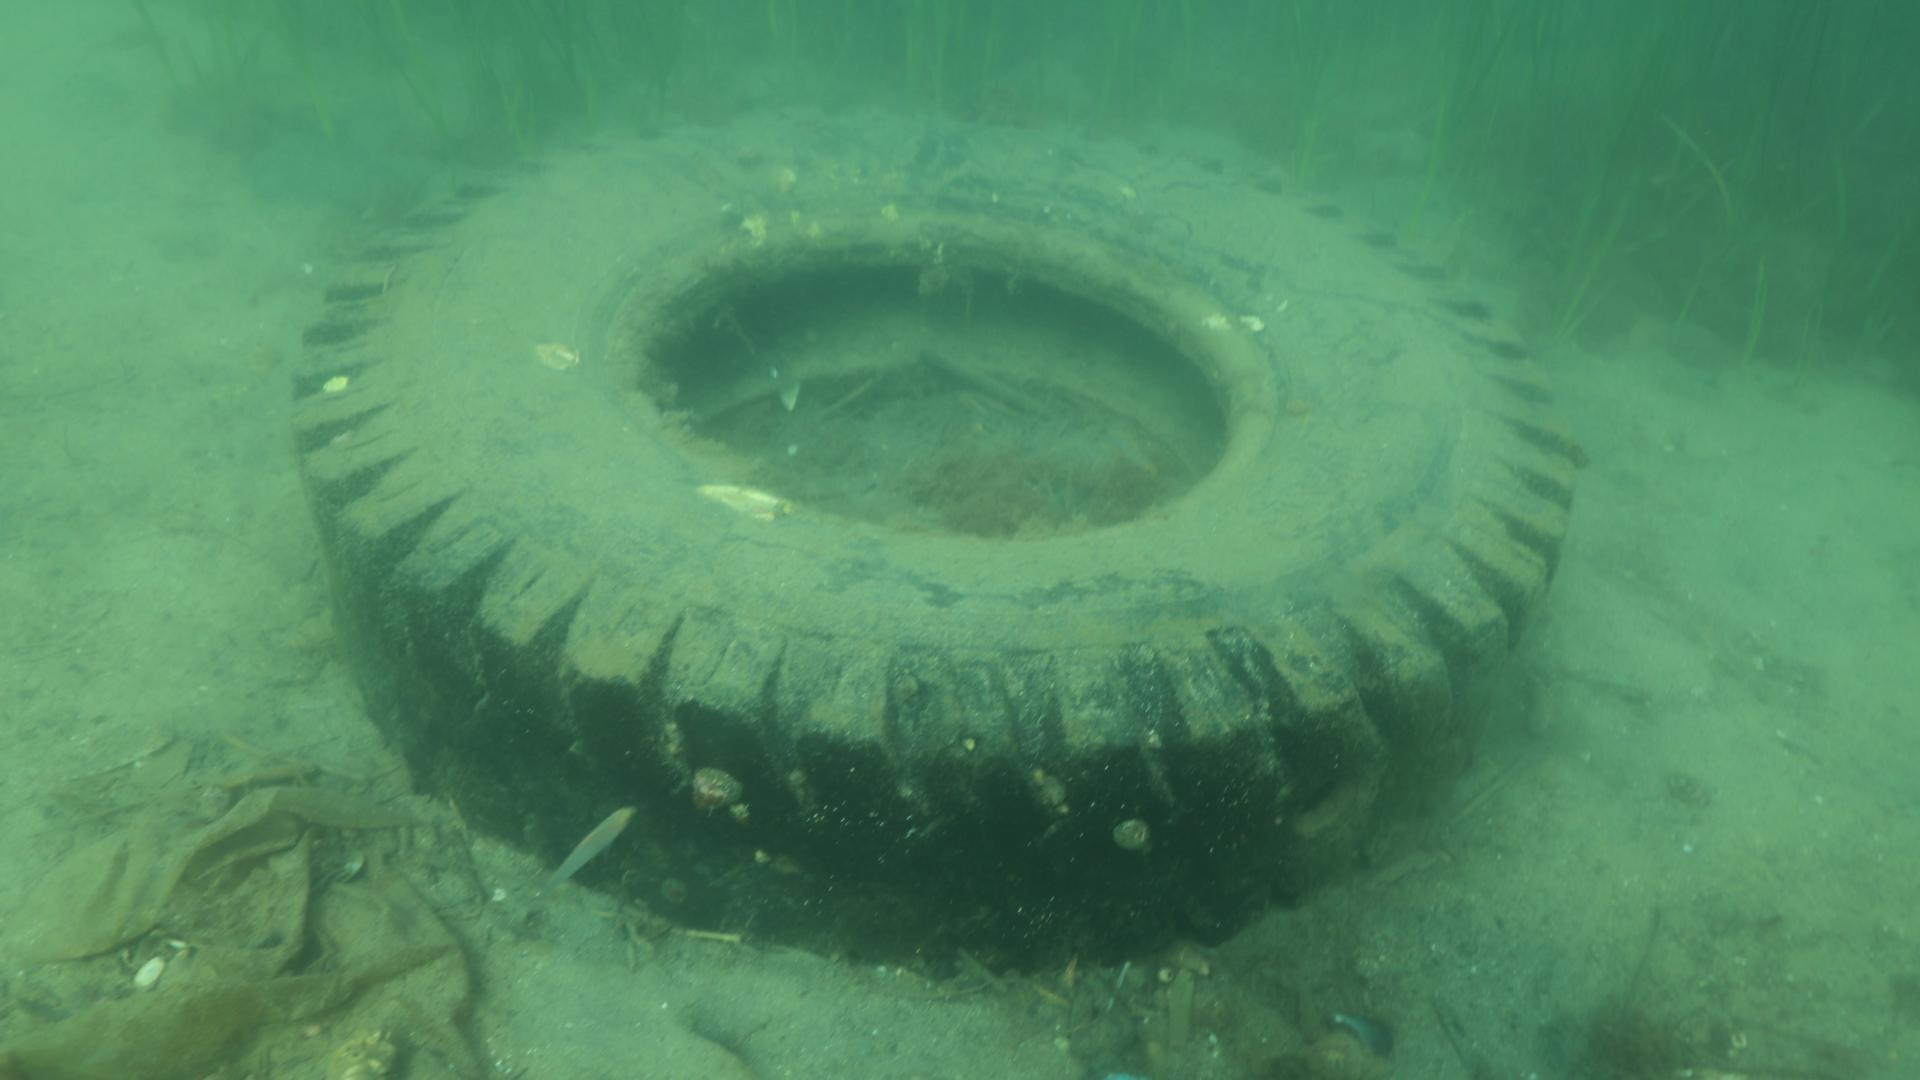tire: (293, 107, 1578, 969)
